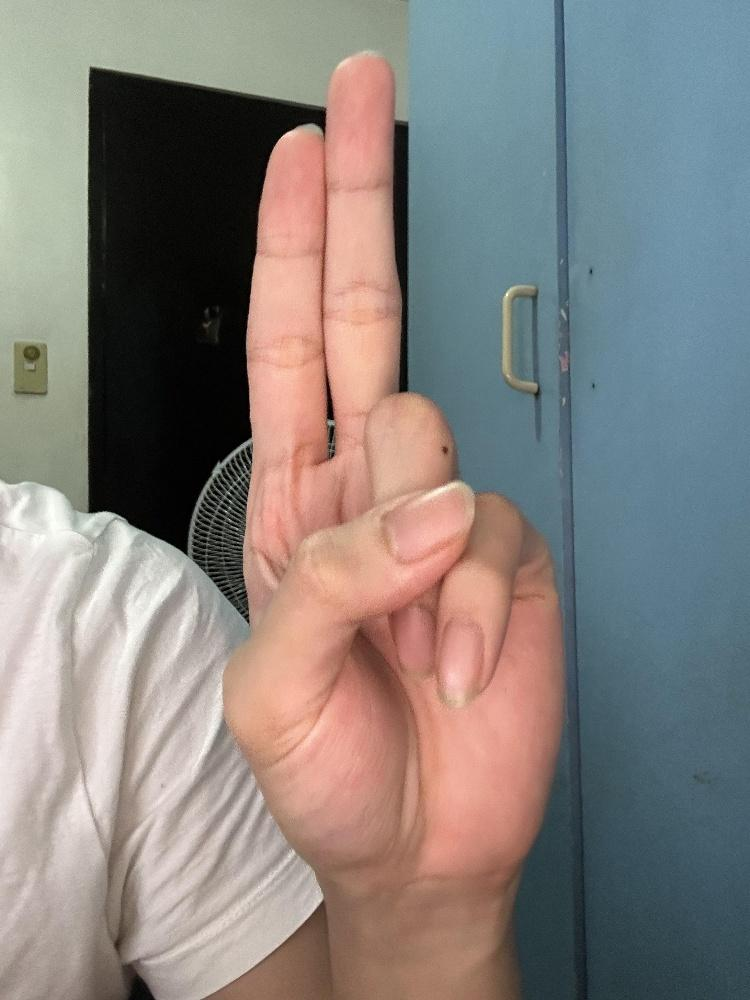u: (217, 43, 570, 894)
